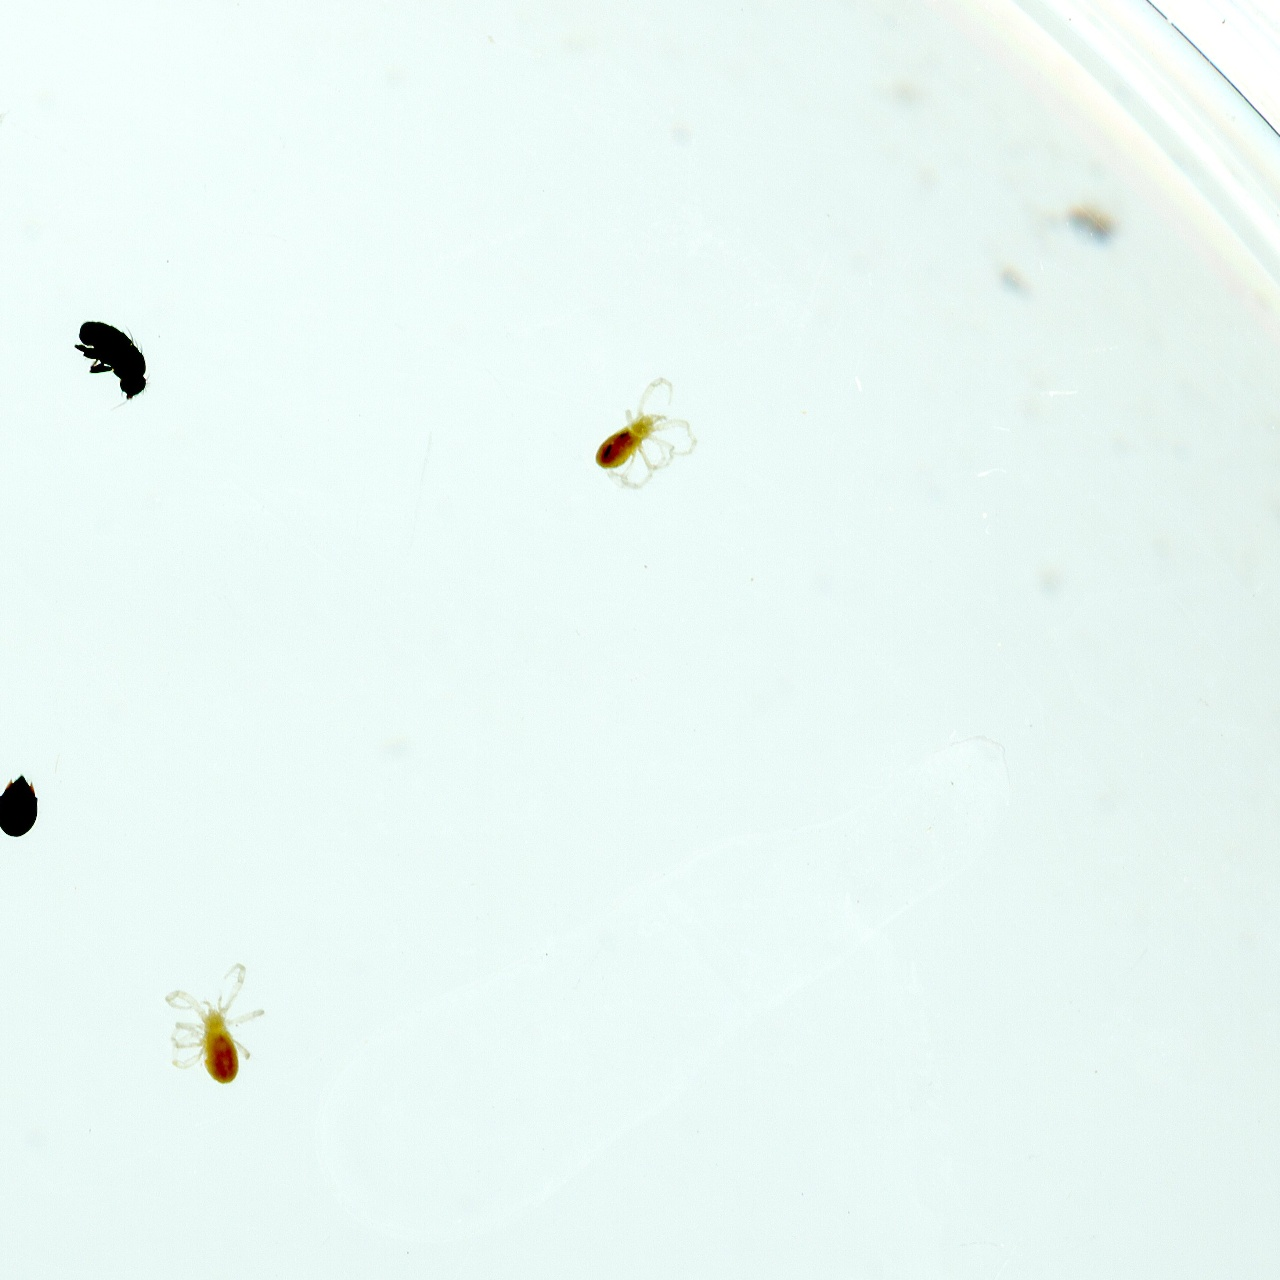arthropod: (573, 360, 729, 519), (163, 959, 268, 1087), (69, 316, 155, 416), (0, 771, 41, 842)
